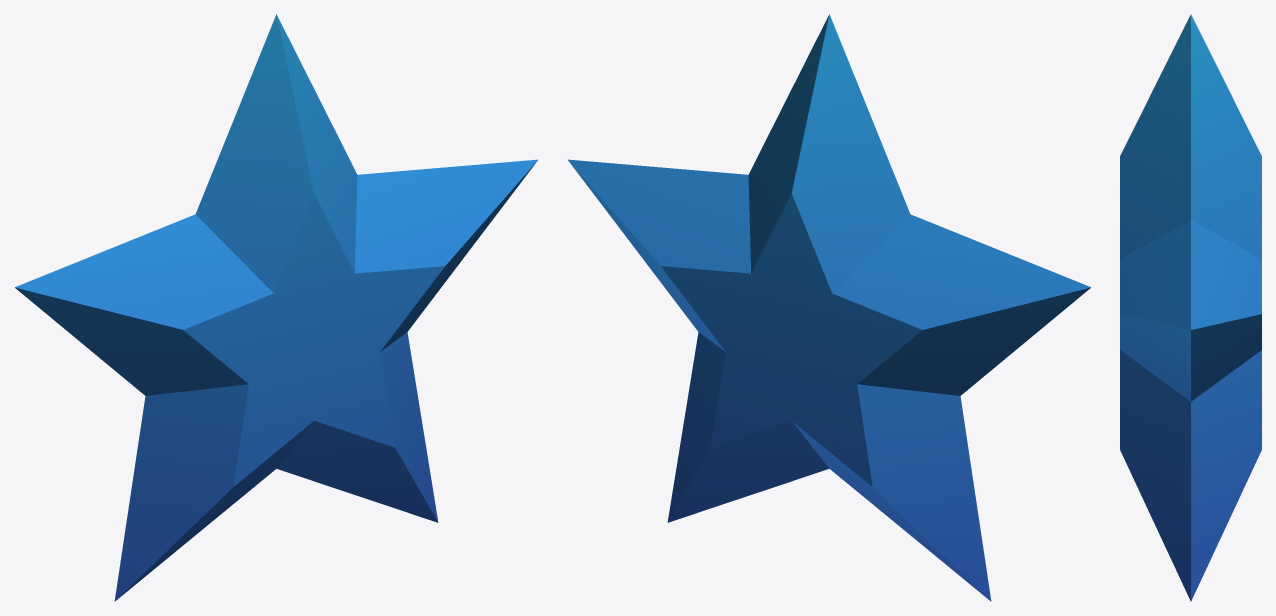
File: Star.fbx
3 renders of one model, left to right at view 1: azimuth 30°, elevation 25°; view 2: azimuth 150°, elevation 25°; view 3: azimuth 270°, elevation 25°, orthographic. The views are drawn at different scales.
Parts seen in each view (by area): view 1: Star; view 2: Star; view 3: Star.
Boxes of the visible parts, x1,y1,x2,y2 form: Star: (15,14,537,601); Star: (568,14,1090,601); Star: (1120,14,1261,601).
Bounding box in the file's own units: 0.5 × 0.5 × 0.125.
